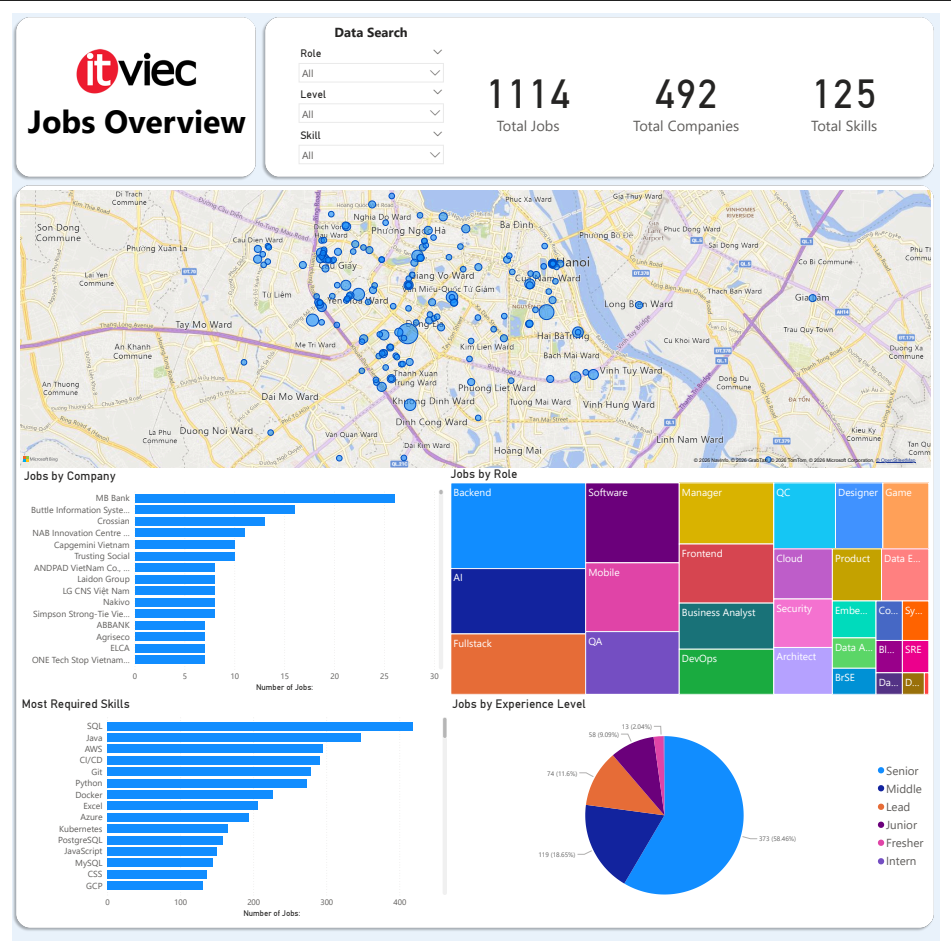

This screenshot's page, from the dashboard's own definition file:
{"tool":"powerbi","page":{"name":"Page 1","canvas":[1705,1710],"ordinal":0},"visuals":[{"type":"shape","box":[0,307.3,1700,1380],"z":0},{"type":"shape","box":[456,0,1244,308],"z":1000},{"type":"shape","box":[0,0,456,308],"z":2000},{"type":"textbox","box":[16,152,426,110],"z":3000},{"type":"card","fields":{"Values":["CountNonNull(clean jobs.id)"]},"box":[802,12,290,286],"z":4000},{"type":"card","fields":{"Values":["CountNonNull(clean companies.id)"]},"box":[1092,12,290,286],"z":5000},{"type":"card","fields":{"Values":["CountNonNull(clean skills.id)"]},"box":[1382,12,290,286],"z":6000},{"type":"clusteredBarChart","title":"Most Required Skills","fields":{"Category":["clean skills.name"],"Y":["CountNonNull(clean job_skills.job_id)"]},"box":[13.3,1255,790,410],"z":7000},{"type":"clusteredBarChart","title":"Jobs by Company","fields":{"Category":["clean companies.name"],"Y":["CountNonNull(clean jobs.company_id)"]},"box":[13.3,833.3,786.7,421.7],"z":8000},{"type":"image","box":[114,58,228,96],"z":9000},{"type":"slicer","fields":{"Values":["clean job_roles.name"]},"box":[516,58,286,74],"z":10000},{"type":"slicer","fields":{"Values":["clean job_levels.name"]},"box":[516,132,286,74],"z":11000},{"type":"slicer","fields":{"Values":["clean skills.name"]},"box":[516,208,286,74],"z":12000},{"type":"textbox","box":[586,12,146,50],"z":13000},{"type":"treemap","title":"Jobs by Role","fields":{"Group":["clean job_roles.name"],"Values":["CountNonNull(clean job_role_map.role_id)"]},"box":[800,833.3,886.7,421.7],"z":15000},{"type":"pieChart","title":"Jobs by Experience Level","fields":{"Category":["clean job_levels.name"],"Y":["CountNonNull(clean job_level_map.level_id)"]},"box":[803.3,1255,883.3,410],"z":16000},{"type":"map","fields":{"Category":["clean locations.name"],"Size":["CountNonNull(clean job_locations.job_id)"]},"box":[15,325,1670,508.3],"z":17000}]}

Visuals, with their boxes in screenshot pixels (x1, y1, x2, y2), scaled from the page's 1705x1710 canvas onto the 951x951 screenshot:
shape: l=0, t=171, r=948, b=938
shape: l=254, t=0, r=948, b=171
shape: l=0, t=0, r=254, b=171
textbox: l=9, t=85, r=247, b=146
card - CountNonNull(clean jobs.id): l=447, t=7, r=609, b=166
card - CountNonNull(clean companies.id): l=609, t=7, r=771, b=166
card - CountNonNull(clean skills.id): l=771, t=7, r=933, b=166
"Most Required Skills" clusteredBarChart: l=7, t=698, r=448, b=926
"Jobs by Company" clusteredBarChart: l=7, t=463, r=446, b=698
image: l=64, t=32, r=191, b=86
slicer - clean job_roles.name: l=288, t=32, r=447, b=73
slicer - clean job_levels.name: l=288, t=73, r=447, b=115
slicer - clean skills.name: l=288, t=116, r=447, b=157
textbox: l=327, t=7, r=408, b=34
"Jobs by Role" treemap: l=446, t=463, r=941, b=698
"Jobs by Experience Level" pieChart: l=448, t=698, r=941, b=926
map - clean locations.name x CountNonNull(clean job_locations.job_id): l=8, t=181, r=940, b=463
